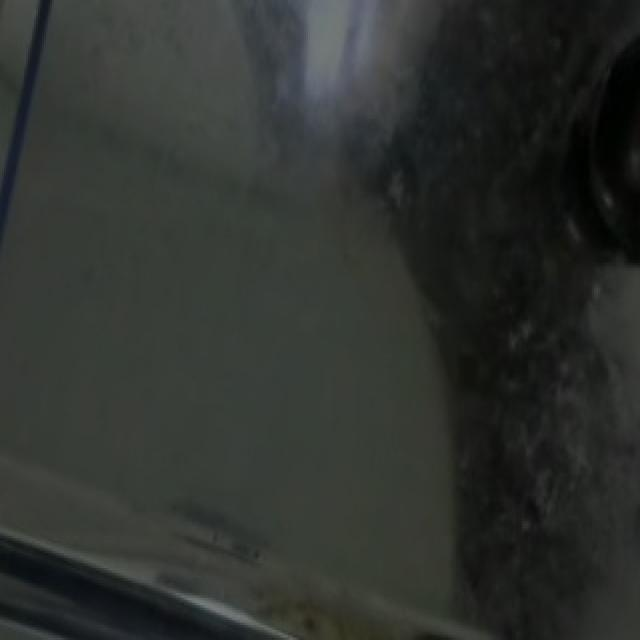Fruit: (596, 15, 640, 146)
